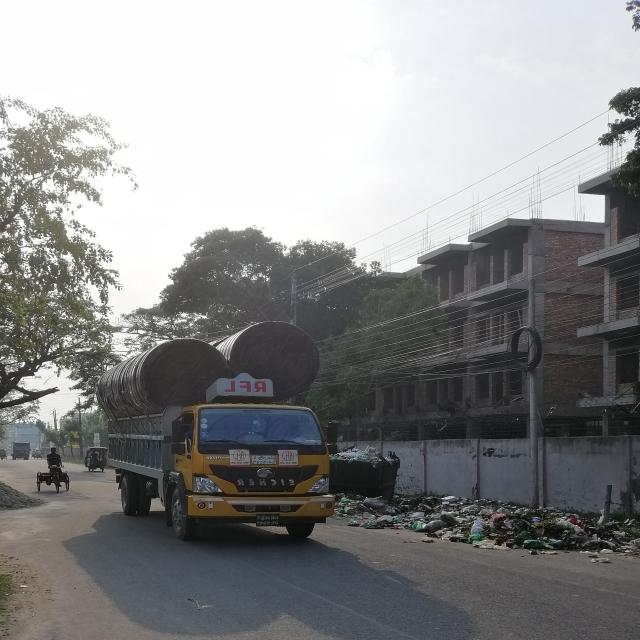Truck: (85, 320, 365, 544)
